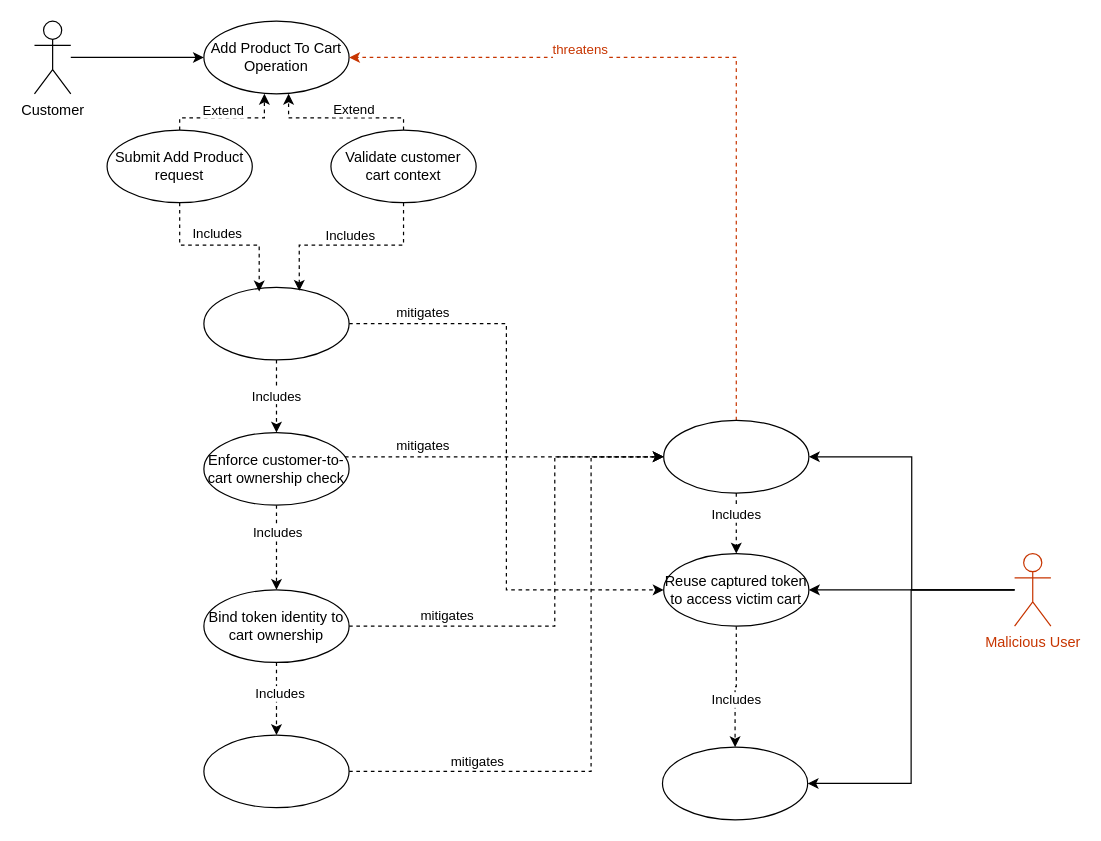
Some shapes in this 1101 by 841 pixel diagram are drawn without their labels. Each missing label, with the centre of its shape:
"Log unauthorized add-to-cart attempts" goes at (x=276, y=771).
"Ownership bypass in add-to-cart endpoint" goes at (x=735, y=456).
"Unauthorized add-product action executed" goes at (x=734, y=783).
"Validate customer access token" goes at (x=276, y=323).
